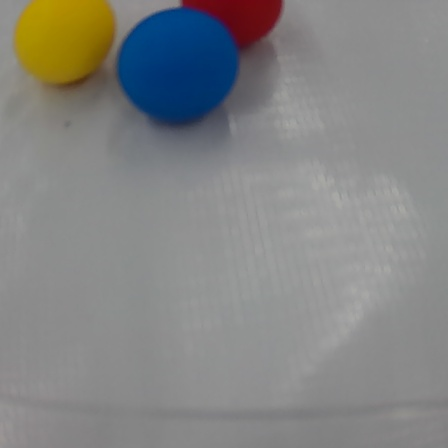blue: (124, 7, 239, 129)
red: (175, 0, 284, 53)
yellow: (17, 0, 119, 90)
